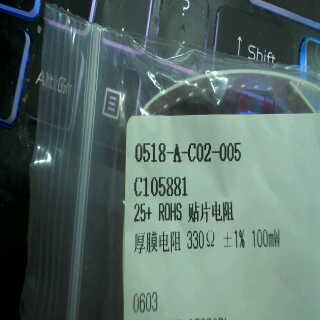330R: (184, 227, 216, 256)
